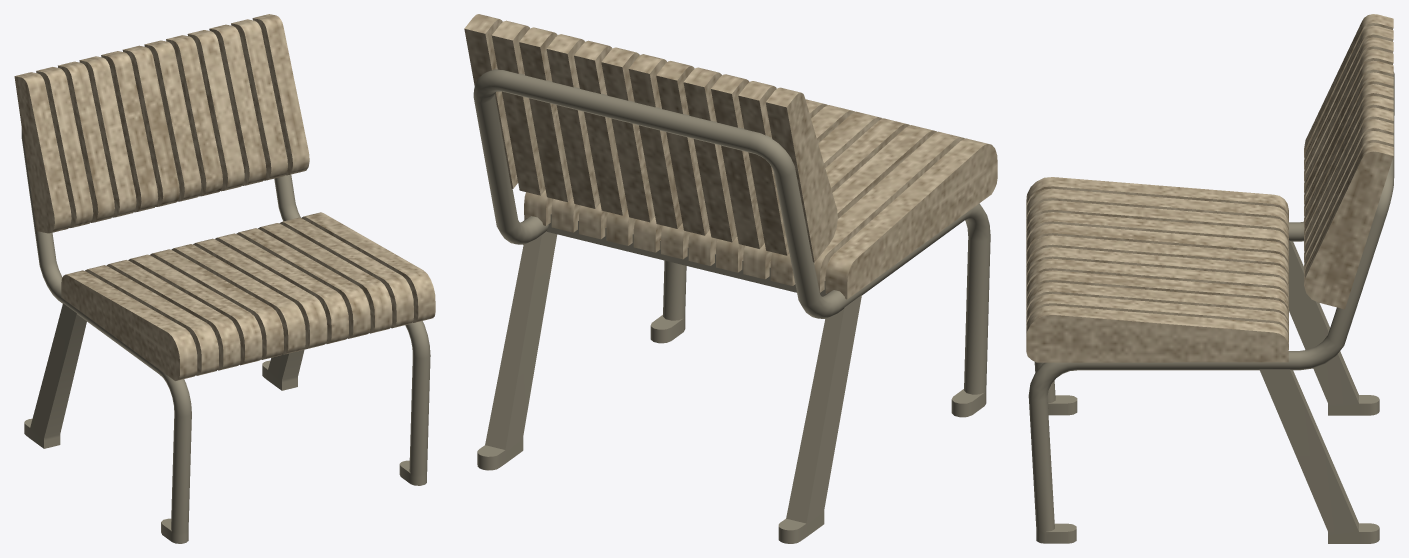
File: stul2.glb
3 renders of one model, left to right at view 1: azimuth 30°, elevation 25°; view 2: azimuth 150°, elevation 25°; view 3: azimuth 270°, elevation 25°, orthographic. The views are drawn at different scales.
Visible parts, largest first — view 1: СкД_02_HP; view 2: СкД_02_HP; view 3: СкД_02_HP.
Boxes of the visible parts, <box> form: СкД_02_HP: <box>14,14,435,543</box>; СкД_02_HP: <box>464,14,997,543</box>; СкД_02_HP: <box>1026,14,1394,543</box>.
Size of the model in its own units: 0.4341 by 0.577 by 0.4904.
2 materials, 2 textured.
